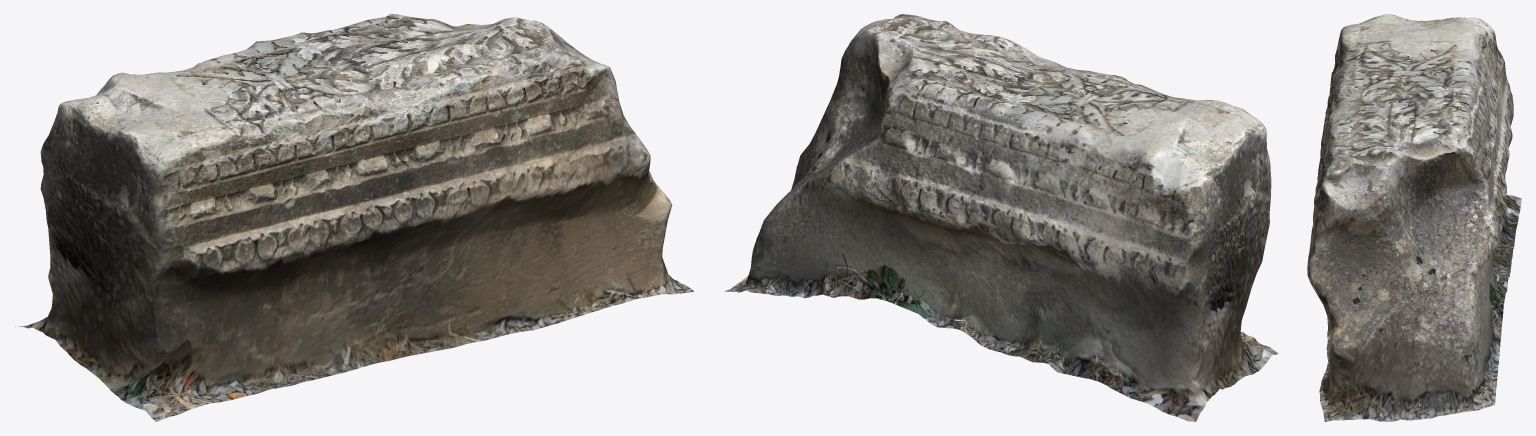
The model's file is carved-laurel-block.glb.
3 renders of one model, left to right at view 1: azimuth 30°, elevation 25°; view 2: azimuth 150°, elevation 25°; view 3: azimuth 270°, elevation 25°, orthographic. The views are drawn at different scales.
Parts seen in each view (by area): view 1: Object_2; view 2: Object_2; view 3: Object_2.
Part boxes in pixels (x1,y1,x2,y2): Object_2: (15,14,693,421); Object_2: (724,14,1278,421); Object_2: (1307,14,1521,421).
Size of the model in its own units: 1.14 by 0.5502 by 0.4811.
1 material, 1 textured.
